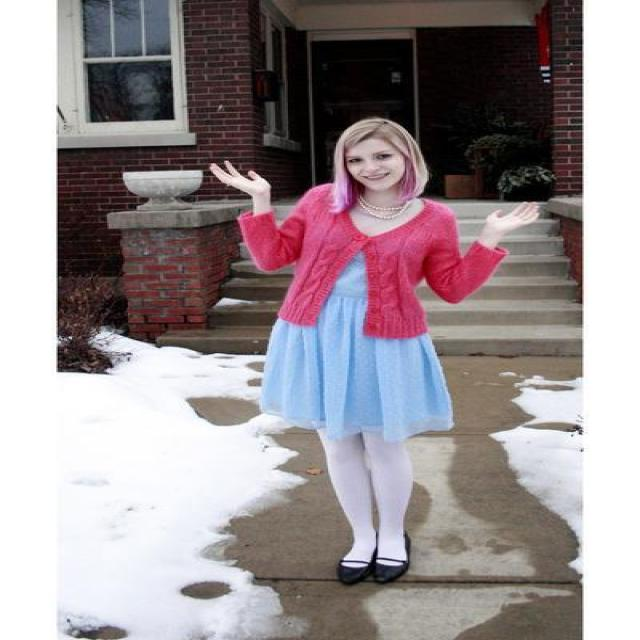dress: (250, 252, 452, 438)
jacket: (237, 174, 504, 338)
shoe: (327, 550, 428, 586)
